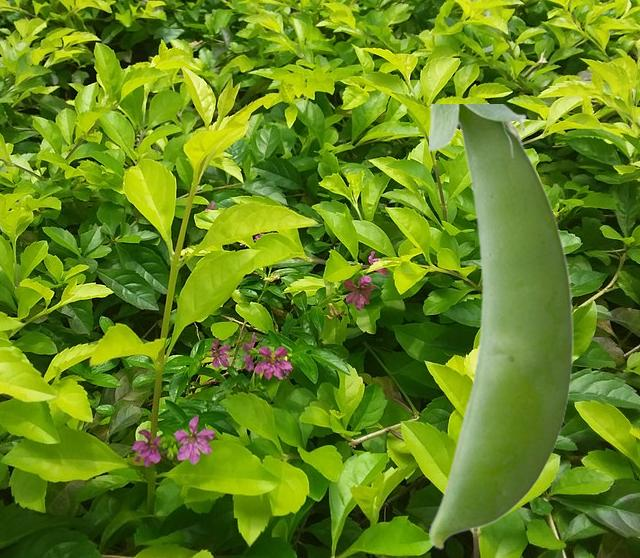pea: (429, 104, 572, 548)
